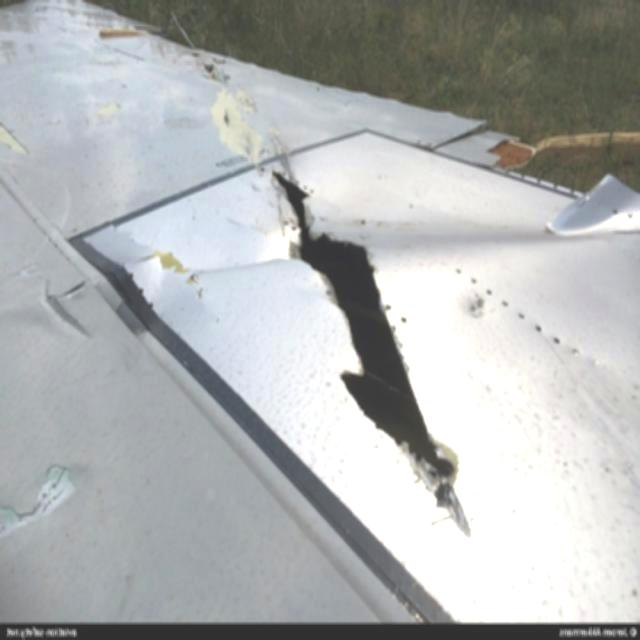crack: (270, 169, 465, 525), (270, 170, 454, 477), (222, 109, 229, 125)
